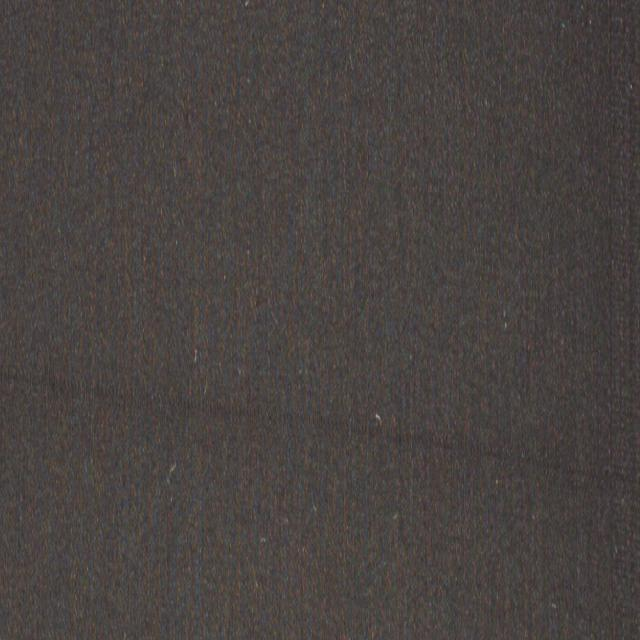Line: (3, 367, 640, 488)
